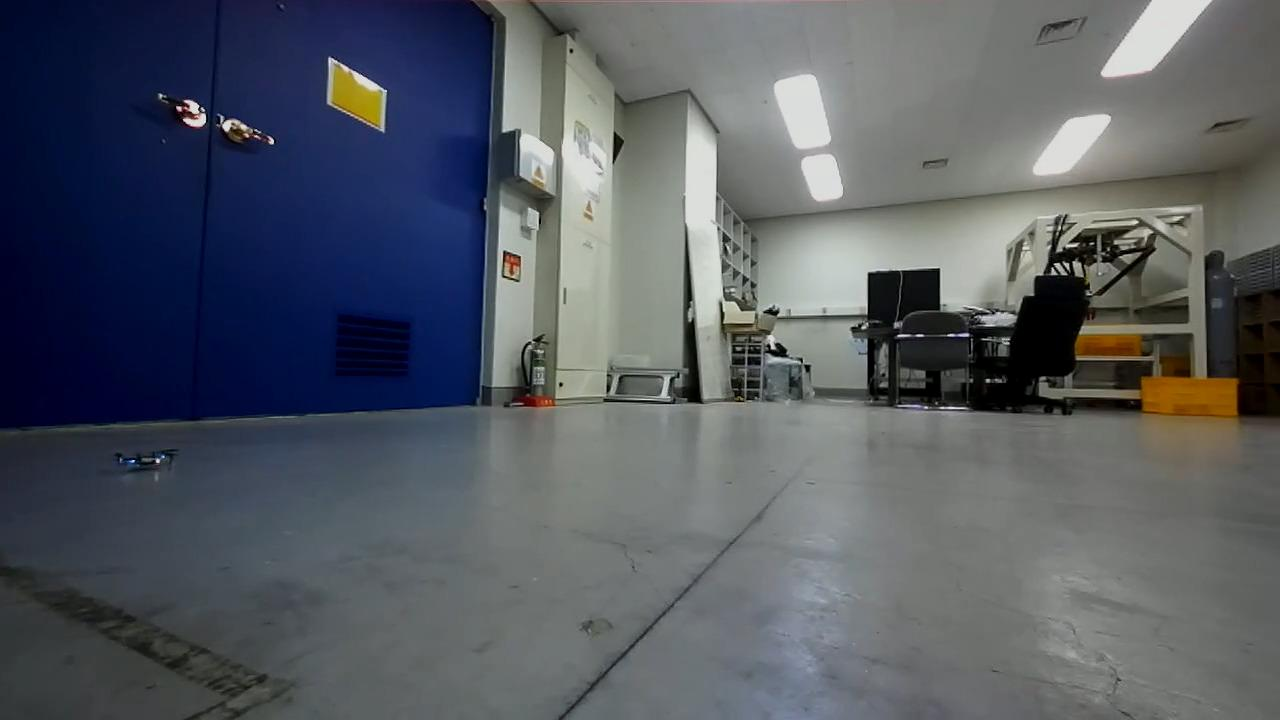crazyflie: (112, 444, 175, 475)
